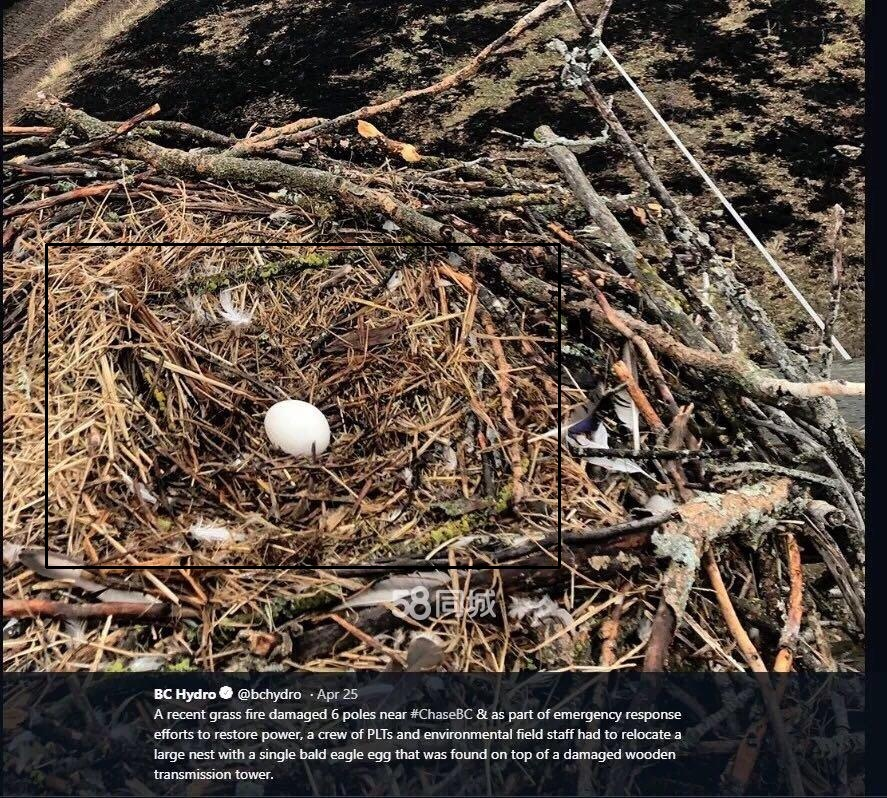bird-nest: (46, 244, 559, 567)
